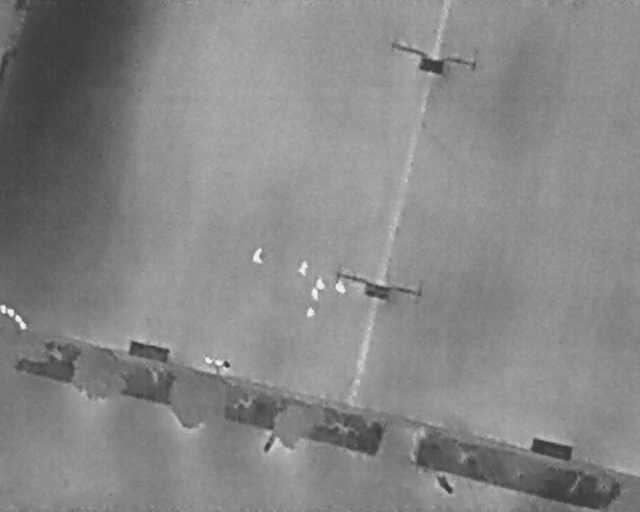Person: (253, 246, 263, 263), (298, 260, 308, 275), (336, 279, 346, 294), (316, 276, 325, 290), (305, 305, 315, 317), (311, 286, 319, 300)
